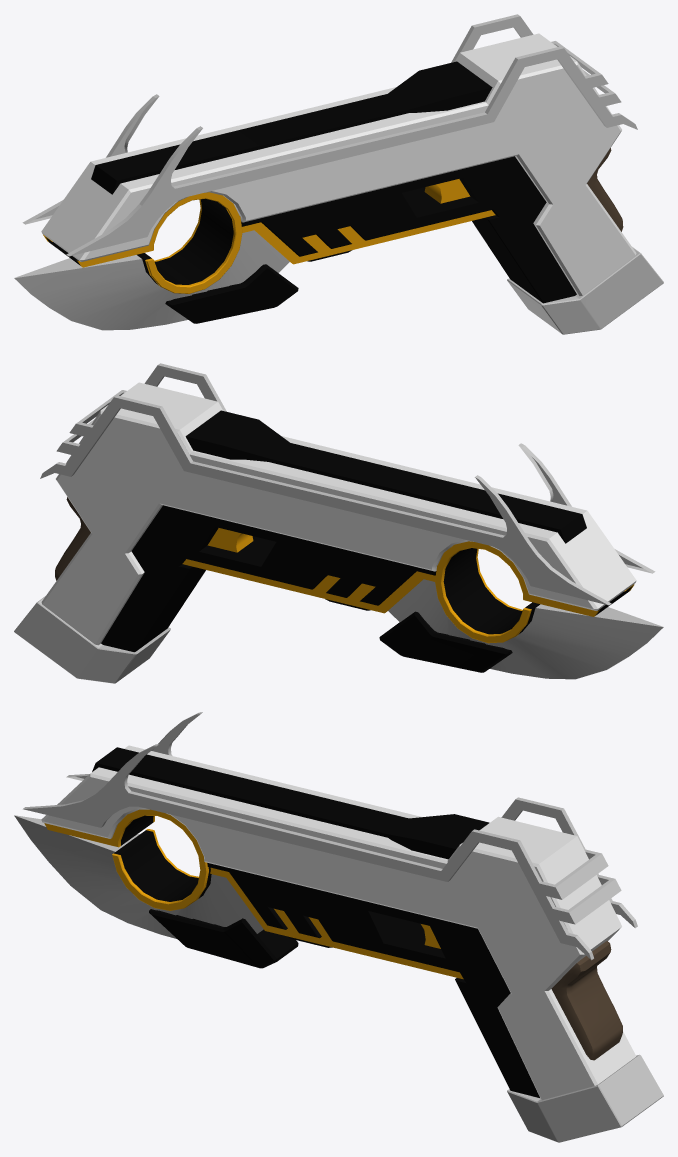
File: LaserGun.fbx
3 views of the same model, one above another, from view 1: azimuth 30°, elevation 25°; view 2: azimuth 150°, elevation 25°; view 3: azimuth 330°, elevation 25° (orthographic).
Parts seen in each view (by area): view 1: pCube1, pCube2, pCube10, pCube12, pCube6, pPipe1, pCube11, pCube7, polySurface1, pCube5, pCube13; view 2: pCube1, pCube2, pCube10, pCube12, pCube6, pPipe1, pCube11, pCube7, polySurface1, pCube5, pCube13; view 3: pCube1, pCube2, pCube10, pCube12, pCube6, pCube11, pPipe1, pCube13, pCube7, polySurface1.
Boxes of the visible parts, x1,y1,x2,y2 form: pCube1: (41,33,636,296); pCube2: (241,156,576,303); pCube10: (22,14,637,256); pCube12: (91,61,492,194); pCube6: (14,230,289,330); pPipe1: (43,192,242,293); pCube11: (507,247,663,334); pCube7: (165,264,298,323); polySurface1: (242,210,495,264); pCube5: (424,179,470,203); pCube13: (587,148,623,231); pCube1: (41,382,636,645); pCube2: (101,505,436,652); pCube10: (40,363,655,605); pCube12: (185,410,586,543); pCube6: (388,579,663,679); pPipe1: (435,541,634,643); pCube11: (14,596,170,683); pCube7: (379,611,512,672); polySurface1: (182,559,435,613); pCube5: (207,528,253,552); pCube13: (55,497,90,580); pCube1: (41,745,636,1100); pCube2: (207,863,539,1097); pCube10: (23,712,637,960); pCube12: (92,747,489,859); pCube6: (14,815,263,938); pCube11: (507,1054,663,1142); pPipe1: (44,809,211,910); pCube13: (551,941,622,1060); pCube7: (149,909,298,968); polySurface1: (210,867,463,979).
Bounding box in the file's own units: 16.91 × 7.73 × 2.16.
